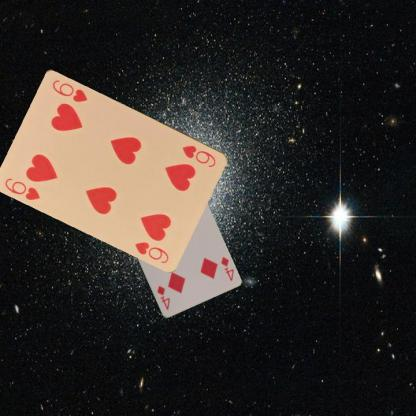4d: (218, 254, 235, 282)
6h: (2, 175, 42, 202), (180, 142, 217, 169)
